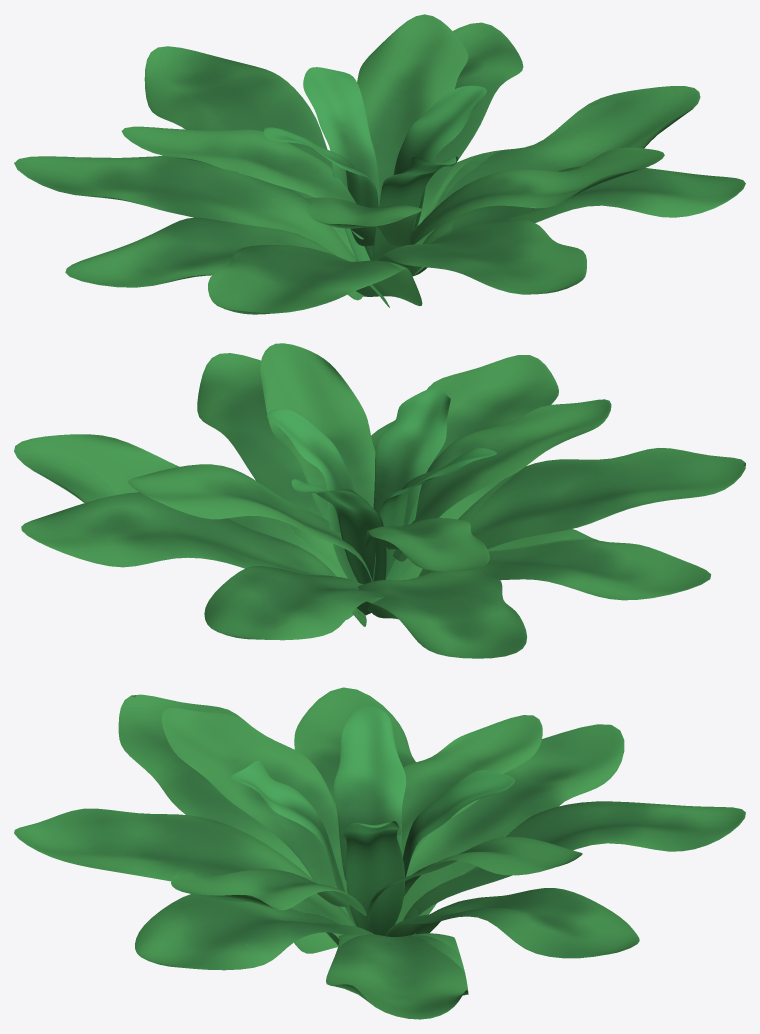
The model's file is BushWide.fbx.
The picture shows the model from 3 angles, top to bottom: view 1: azimuth 30°, elevation 25°; view 2: azimuth 150°, elevation 25°; view 3: azimuth 270°, elevation 25°; orthographic projection. The views are drawn at different scales.
Visible parts, largest first — view 1: Leaves3_LOD0, Leaves2_LOD0, Leaves1_LOD0; view 2: Leaves3_LOD0, Leaves2_LOD0, Leaves1_LOD0; view 3: Leaves3_LOD0, Leaves2_LOD0, Leaves1_LOD0.
Boxes of the visible parts, x1,y1,x2,y2 form: Leaves3_LOD0: (14, 22, 745, 314); Leaves2_LOD0: (121, 14, 664, 247); Leaves1_LOD0: (263, 67, 486, 261); Leaves3_LOD0: (14, 353, 745, 658); Leaves2_LOD0: (128, 343, 611, 581); Leaves1_LOD0: (267, 387, 496, 584); Leaves3_LOD0: (14, 687, 745, 1019); Leaves2_LOD0: (161, 708, 582, 923); Leaves1_LOD0: (231, 706, 514, 935).
Size of what is drawn, in the model's own units: 539 by 142 by 502.
3 materials, 3 textured.
